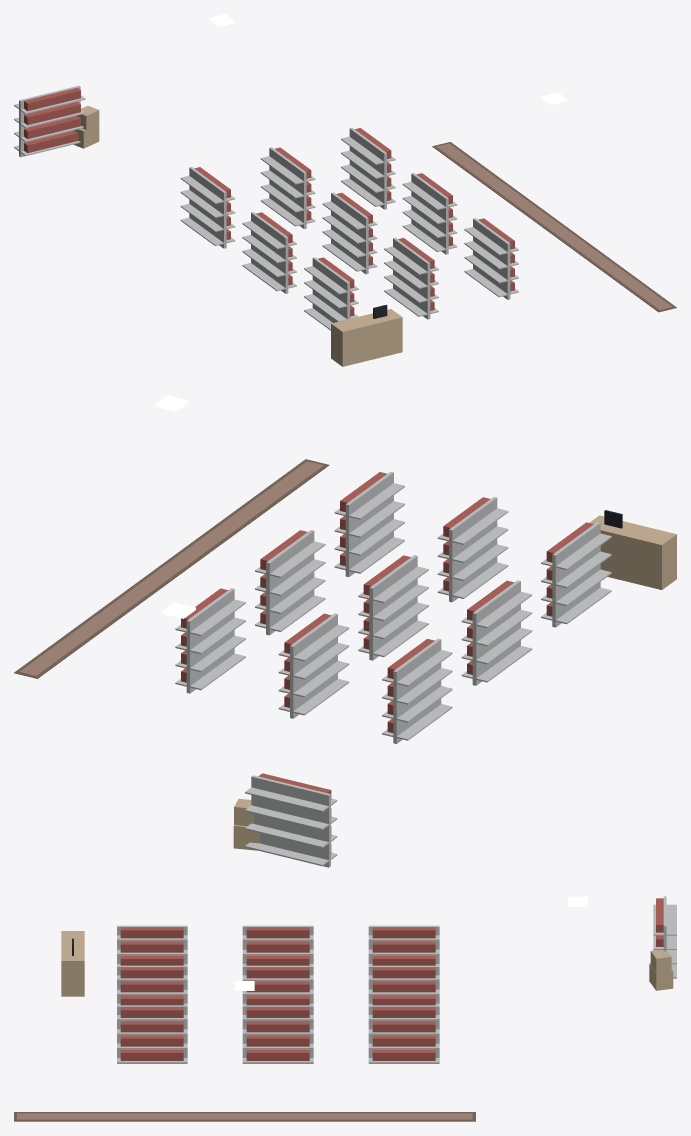
The model's file is fine-s0.glb.
3 views of the same model, one above another, from view 1: azimuth 30°, elevation 25°; view 2: azimuth 150°, elevation 25°; view 3: azimuth 270°, elevation 25° (orthographic). The views are drawn at different scales.
Visible parts, largest first — view 1: soft-s0, shelving.000, shop-counter.000, shelf.003, shelf.006, shelf.005, shelf.000, shelf.004, shelf.007, shelf.008, shelf.001, shelf.002 (+1 smaller); view 2: soft-s0, shelving.000, shelf.005, shelf.004, shelf.007, shelf.002, shelf.000, shelf.001, shelf.003, shelf.008, shelf.006, shop-counter.000 (+1 smaller); view 3: soft-s0, shelf.006, shelf.007, shelf.008, shelf.000, shelf.001, shelf.003, shelf.002, shelf.005, shelf.004, shop-counter.000, shelving.000 (+1 smaller).
Boxes of the visible parts, bbox=[...] form: soft-s0: bbox=[432, 142, 676, 312]; shelving.000: bbox=[14, 85, 85, 157]; shop-counter.000: bbox=[331, 304, 402, 366]; shelf.003: bbox=[260, 147, 315, 228]; shelf.006: bbox=[341, 128, 395, 209]; shelf.005: bbox=[384, 237, 438, 319]; shelf.000: bbox=[180, 167, 235, 248]; shelf.004: bbox=[322, 192, 377, 274]; shelf.007: bbox=[402, 173, 457, 254]; shelf.008: bbox=[464, 218, 518, 299]; shelf.001: bbox=[242, 212, 296, 293]; shelf.002: bbox=[304, 257, 358, 330]; soft-s0: bbox=[14, 459, 329, 678]; shelving.000: bbox=[245, 773, 337, 867]; shelf.005: bbox=[437, 497, 508, 602]; shelf.004: bbox=[358, 555, 428, 660]; shelf.007: bbox=[255, 530, 325, 635]; shelf.002: bbox=[541, 522, 611, 627]; shelf.000: bbox=[382, 638, 452, 743]; shelf.001: bbox=[461, 580, 532, 685]; shelf.003: bbox=[278, 613, 349, 718]; shelf.008: bbox=[334, 471, 404, 576]; shelf.006: bbox=[175, 588, 245, 693]; shop-counter.000: bbox=[589, 510, 676, 589]; soft-s0: bbox=[14, 1112, 475, 1121]; shelf.006: bbox=[368, 1005, 439, 1063]; shelf.007: bbox=[242, 1005, 313, 1063]; shelf.008: bbox=[117, 1005, 187, 1063]; shelf.000: bbox=[368, 925, 439, 965]; shelf.001: bbox=[242, 925, 313, 965]; shelf.003: bbox=[368, 965, 439, 1005]; shelf.002: bbox=[117, 925, 187, 965]; shelf.005: bbox=[117, 965, 187, 1005]; shelf.004: bbox=[242, 965, 313, 1005]; shop-counter.000: bbox=[61, 931, 84, 996]; shelving.000: bbox=[653, 896, 676, 978].
Size of the model in its own units: 10.12 by 3.7 by 16.85.
